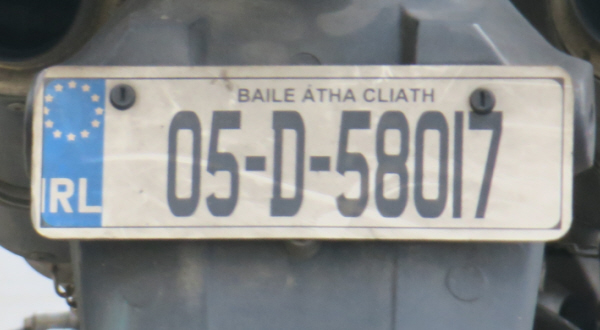license_plate: (31, 64, 573, 239)
